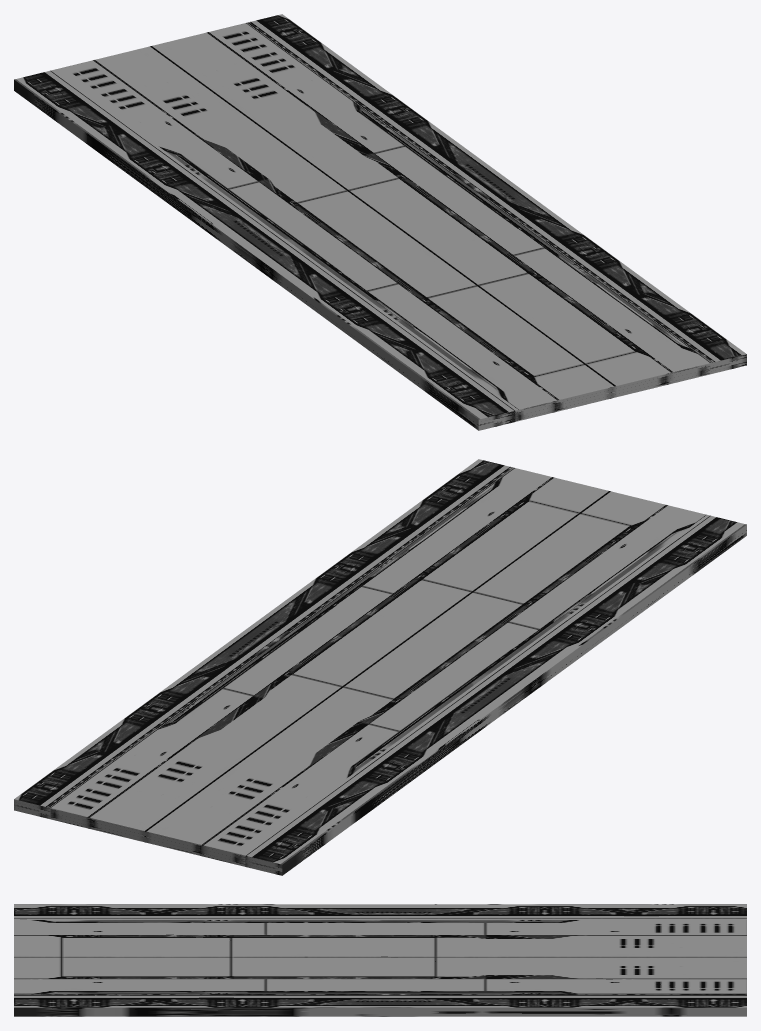
File: straightRoad.fbx
3 renders of one model, top to bottom at view 1: azimuth 30°, elevation 25°; view 2: azimuth 150°, elevation 25°; view 3: azimuth 270°, elevation 25°, orthographic. The views are drawn at different scales.
Visible parts, largest first — view 1: Cube; view 2: Cube; view 3: Cube.
Boxes of the visible parts, left/top/right/bottom form: Cube: left=14, top=14, right=746, bottom=430; Cube: left=14, top=459, right=746, bottom=875; Cube: left=14, top=904, right=746, bottom=1016.
Size of the model in its own units: 1000 by 40 by 3000.
